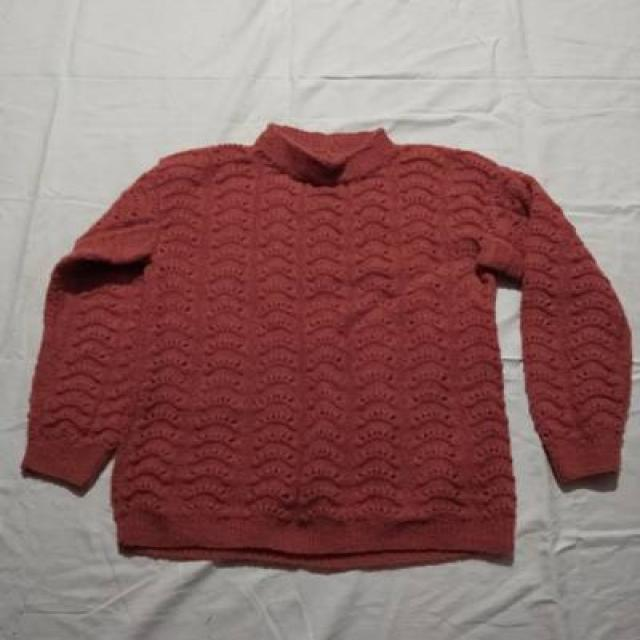Clothes -Biodegradable-: (19, 122, 629, 567)
